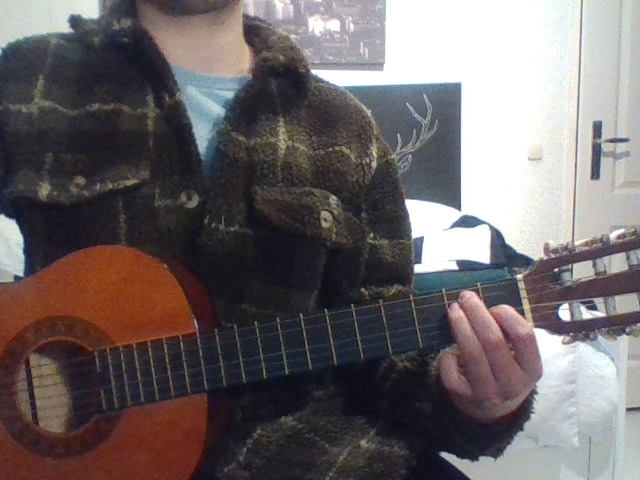E: (419, 269, 566, 434)
